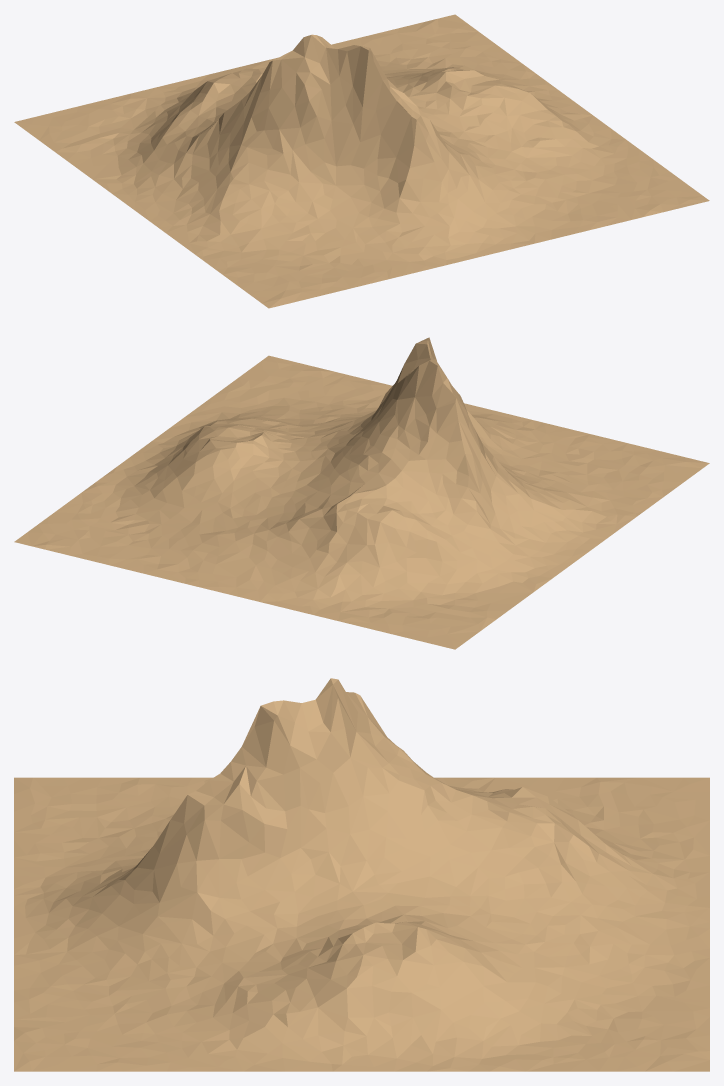
Rendered from MT_Terrain_L_f_04_LOD.fbx.
The picture shows the model from 3 angles, top to bottom: view 1: azimuth 30°, elevation 25°; view 2: azimuth 150°, elevation 25°; view 3: azimuth 270°, elevation 25°; orthographic projection. The views are drawn at different scales.
Parts seen in each view (by area): view 1: MT_Terrain_L_f_04_LOD0; view 2: MT_Terrain_L_f_04_LOD0; view 3: MT_Terrain_L_f_04_LOD0.
Boxes of the visible parts, x1=… form: MT_Terrain_L_f_04_LOD0: x1=14, y1=14, x2=709, y2=308; MT_Terrain_L_f_04_LOD0: x1=14, y1=337, x2=709, y2=649; MT_Terrain_L_f_04_LOD0: x1=14, y1=678, x2=709, y2=1071.
Size of what is drawn, in the model's own units: 10000 by 3256 by 10000.
